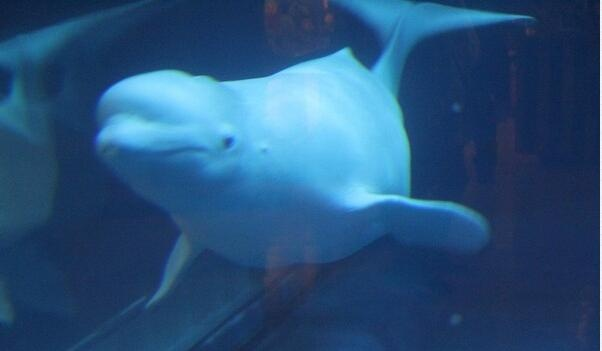fish: (91, 1, 537, 315)
